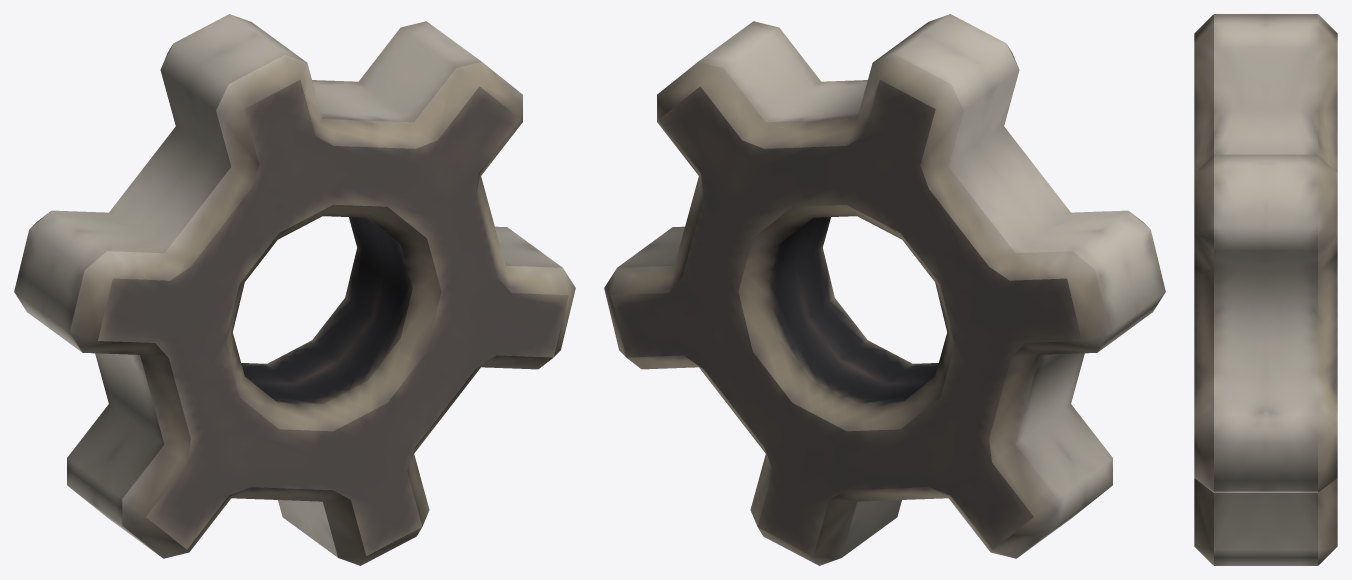
File: Debris_Rouage.FBX
3 renders of one model, left to right at view 1: azimuth 30°, elevation 25°; view 2: azimuth 150°, elevation 25°; view 3: azimuth 270°, elevation 25°, orthographic. The views are drawn at different scales.
Parts seen in each view (by area): view 1: Rouage; view 2: Rouage; view 3: Rouage.
Part boxes in pixels (box(x1,y1,x2,y2)): Rouage: box(14, 14, 575, 565); Rouage: box(604, 14, 1165, 565); Rouage: box(1194, 14, 1337, 565).
Size of the model in its own units: 0.736 by 0.736 by 0.1931.
